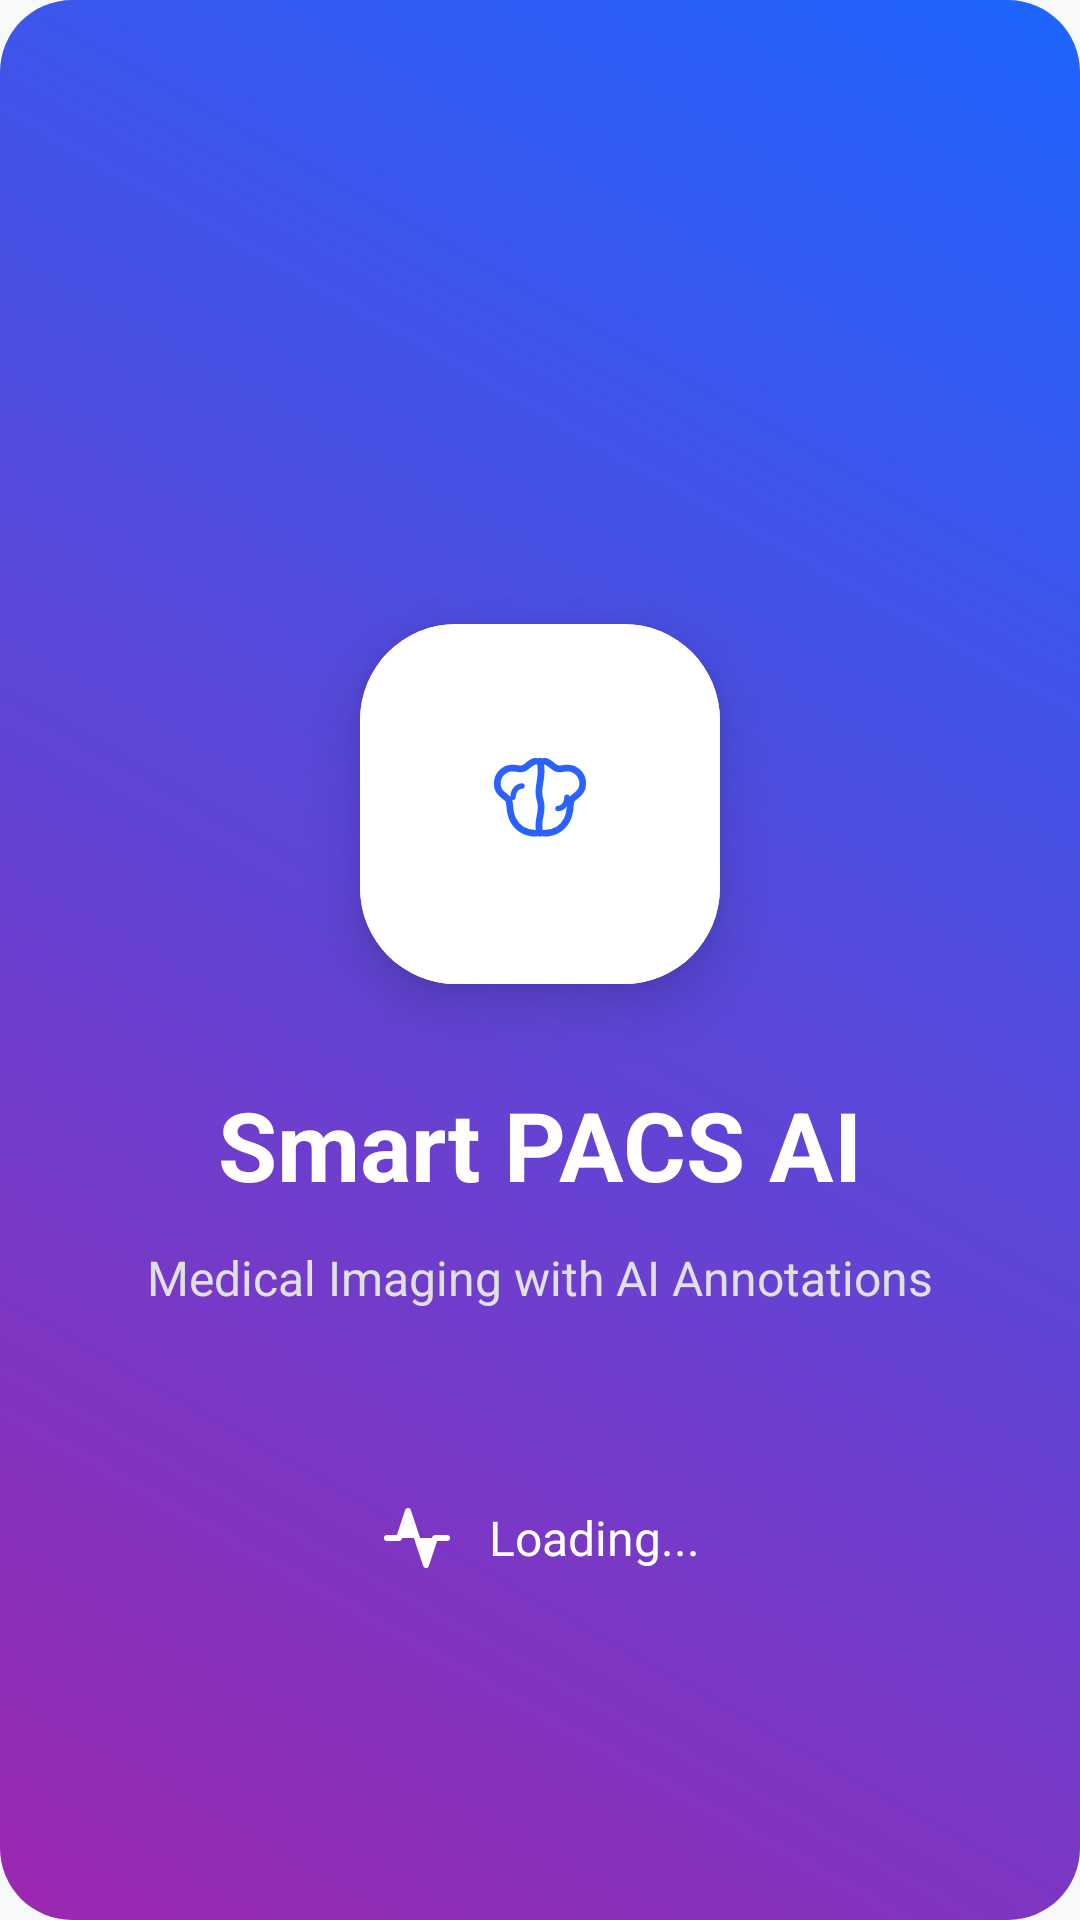

Locate icon controls on the screen. Image size 1080×1920, boxes as (x1, y1, x2, y2).
activity: (384, 1508, 450, 1568)
